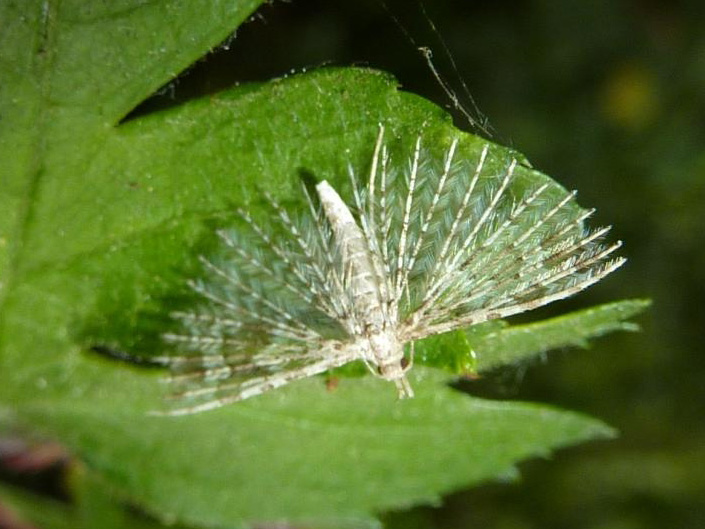Alucitidae: (139, 103, 623, 413)
moth: (141, 105, 625, 415)
